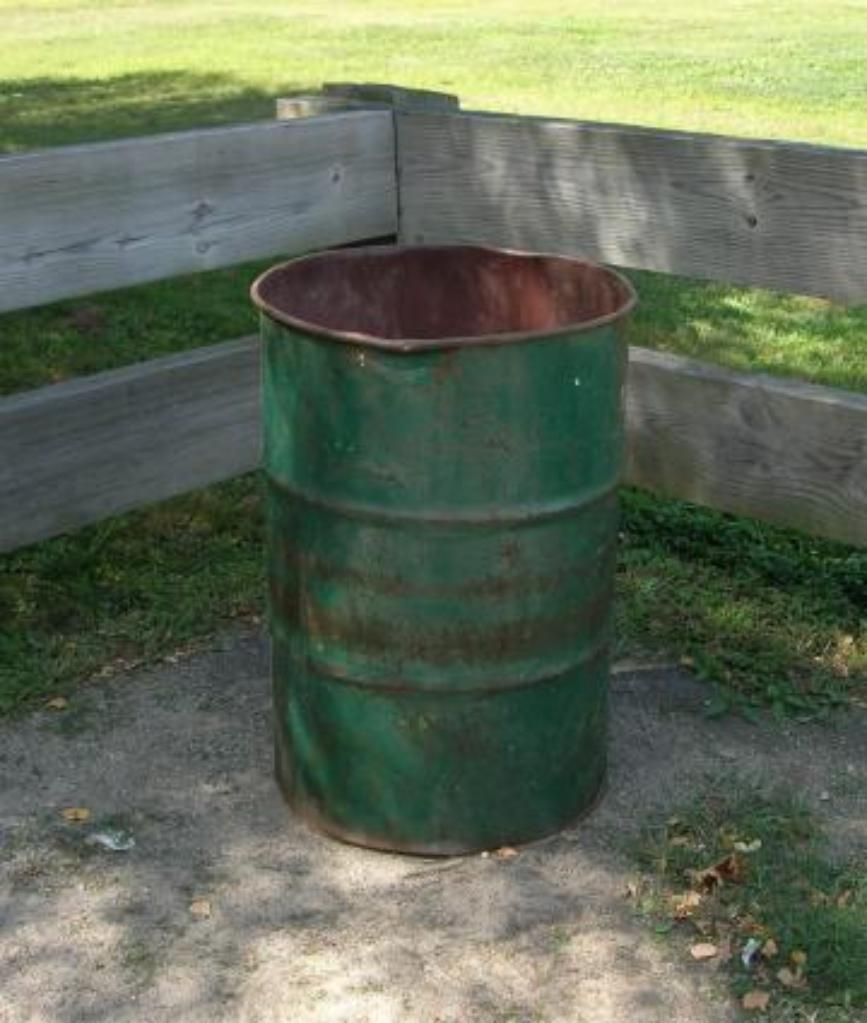dustbin: (241, 235, 649, 864)
